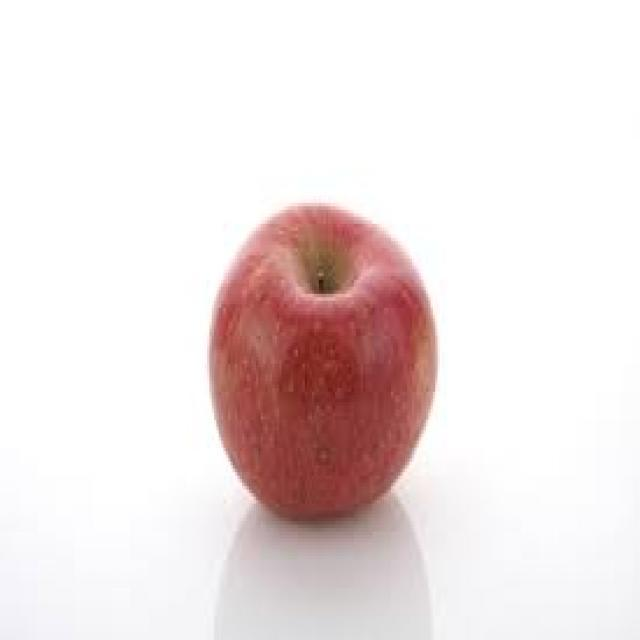Fresh Apple: (205, 205, 442, 515)
